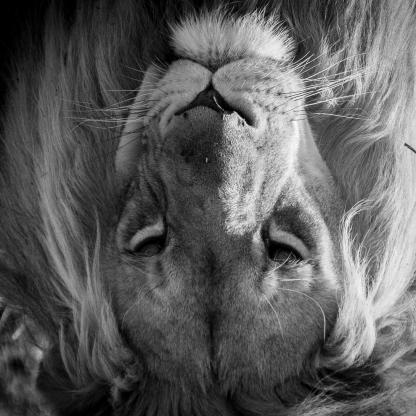lion: (61, 19, 378, 401)
